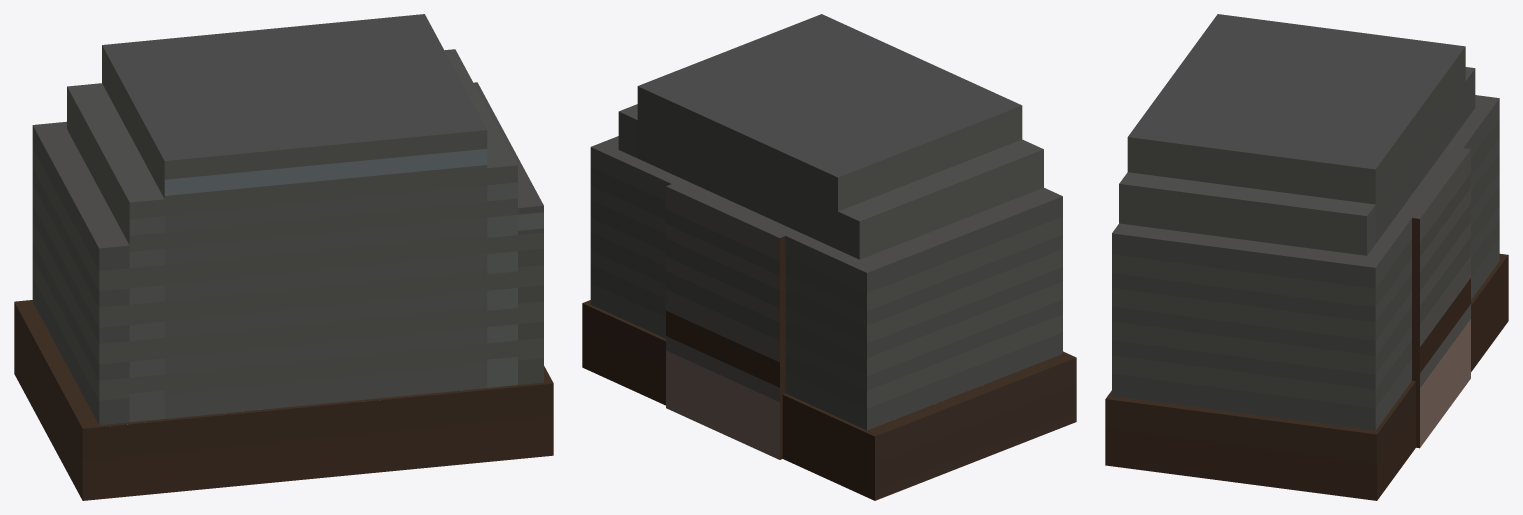
File: t_-2_4.far.glb
3 views of the same model, side by side, from view 1: azimuth 30°, elevation 25°; view 2: azimuth 150°, elevation 25°; view 3: azimuth 270°, elevation 25° (orthographic). The views are drawn at different scales.
Visible parts, largest first — view 1: opaque; view 2: opaque; view 3: opaque.
Part boxes in pixels (x1,y1,x2,y2): opaque: (14, 14, 553, 500); opaque: (582, 14, 1076, 500); opaque: (1105, 14, 1508, 500).
Bounding box in the file's own units: 61.78 × 40.7 × 48.91.
1 material, 1 textured.
